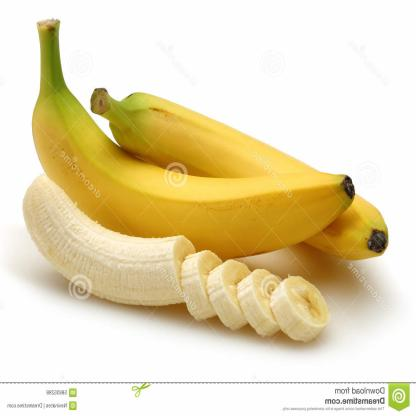banana: (24, 82, 357, 264), (92, 83, 394, 279)
